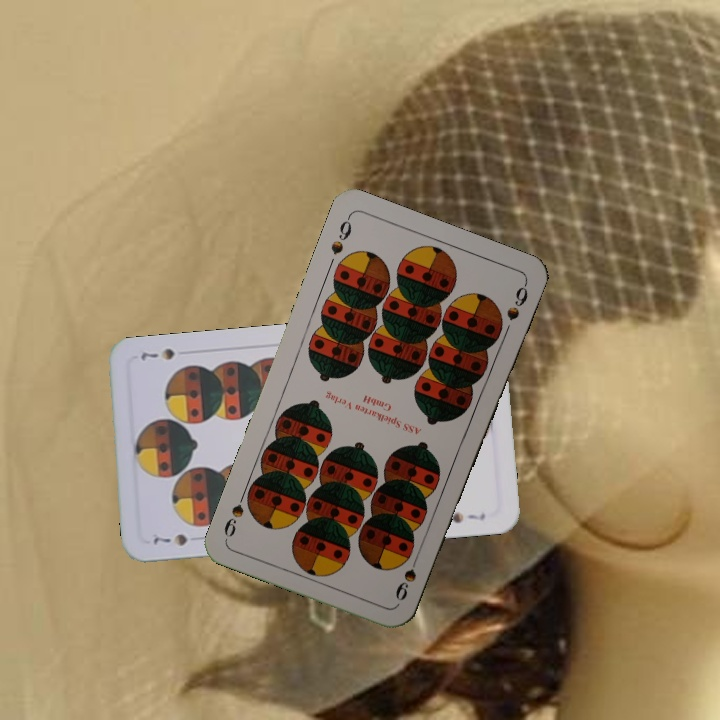S7: (149, 529, 190, 548)
S9: (391, 548, 422, 604), (326, 212, 354, 257)
